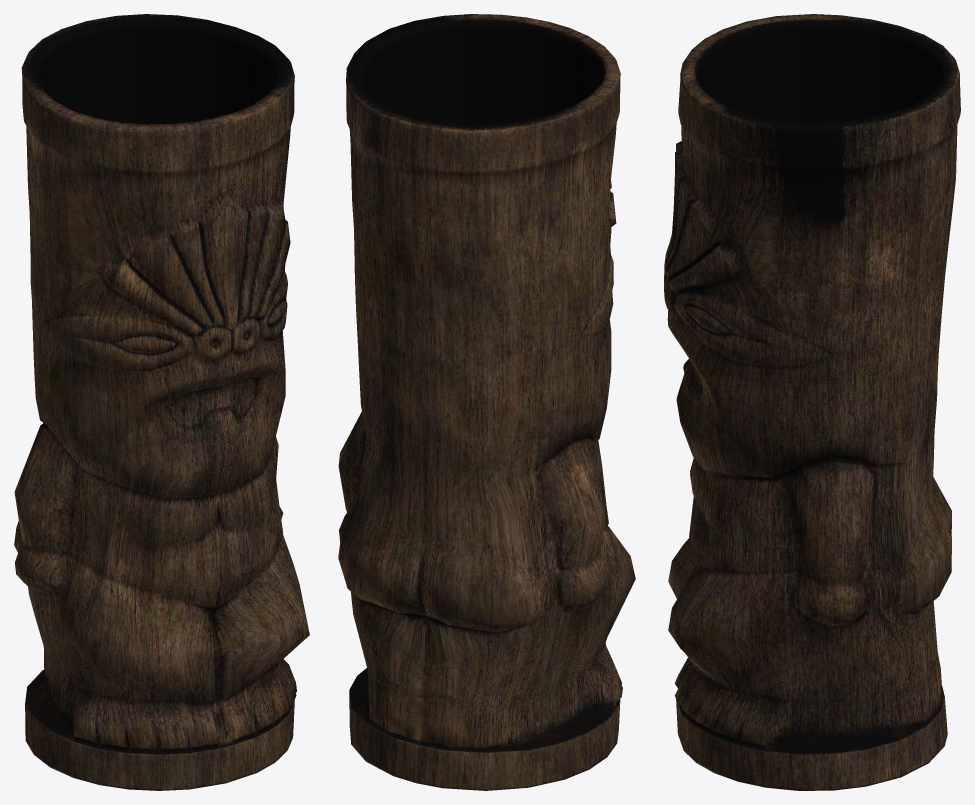
Rendered from tikionly04online.glb.
The picture shows the model from 3 angles, left to right: view 1: azimuth 30°, elevation 25°; view 2: azimuth 150°, elevation 25°; view 3: azimuth 270°, elevation 25°; orthographic projection.
Parts seen in each view (by area): view 1: TIKI_green_glass001; view 2: TIKI_green_glass001; view 3: TIKI_green_glass001.
Boxes of the visible parts, bbox=[...] form: TIKI_green_glass001: bbox=[14, 14, 309, 790]; TIKI_green_glass001: bbox=[338, 14, 635, 790]; TIKI_green_glass001: bbox=[664, 14, 960, 790].
Size of the model in its own units: 0.0628 by 0.1531 by 0.0621.
1 material, 1 textured.
